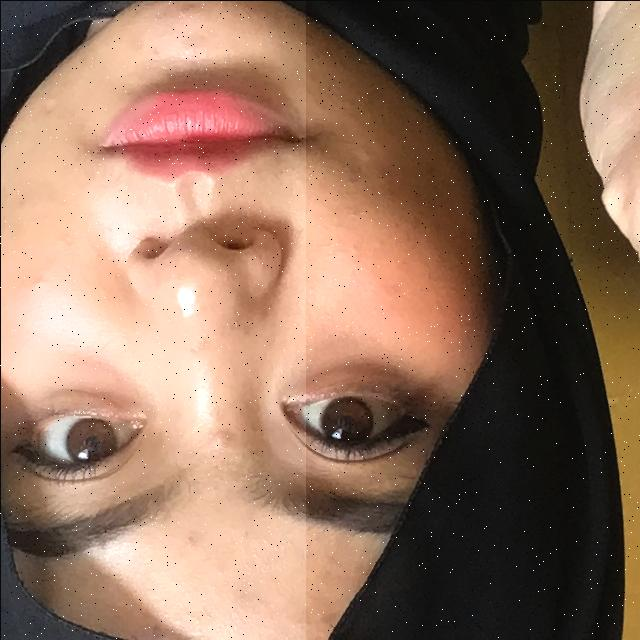kapan: (305, 0, 640, 640)
